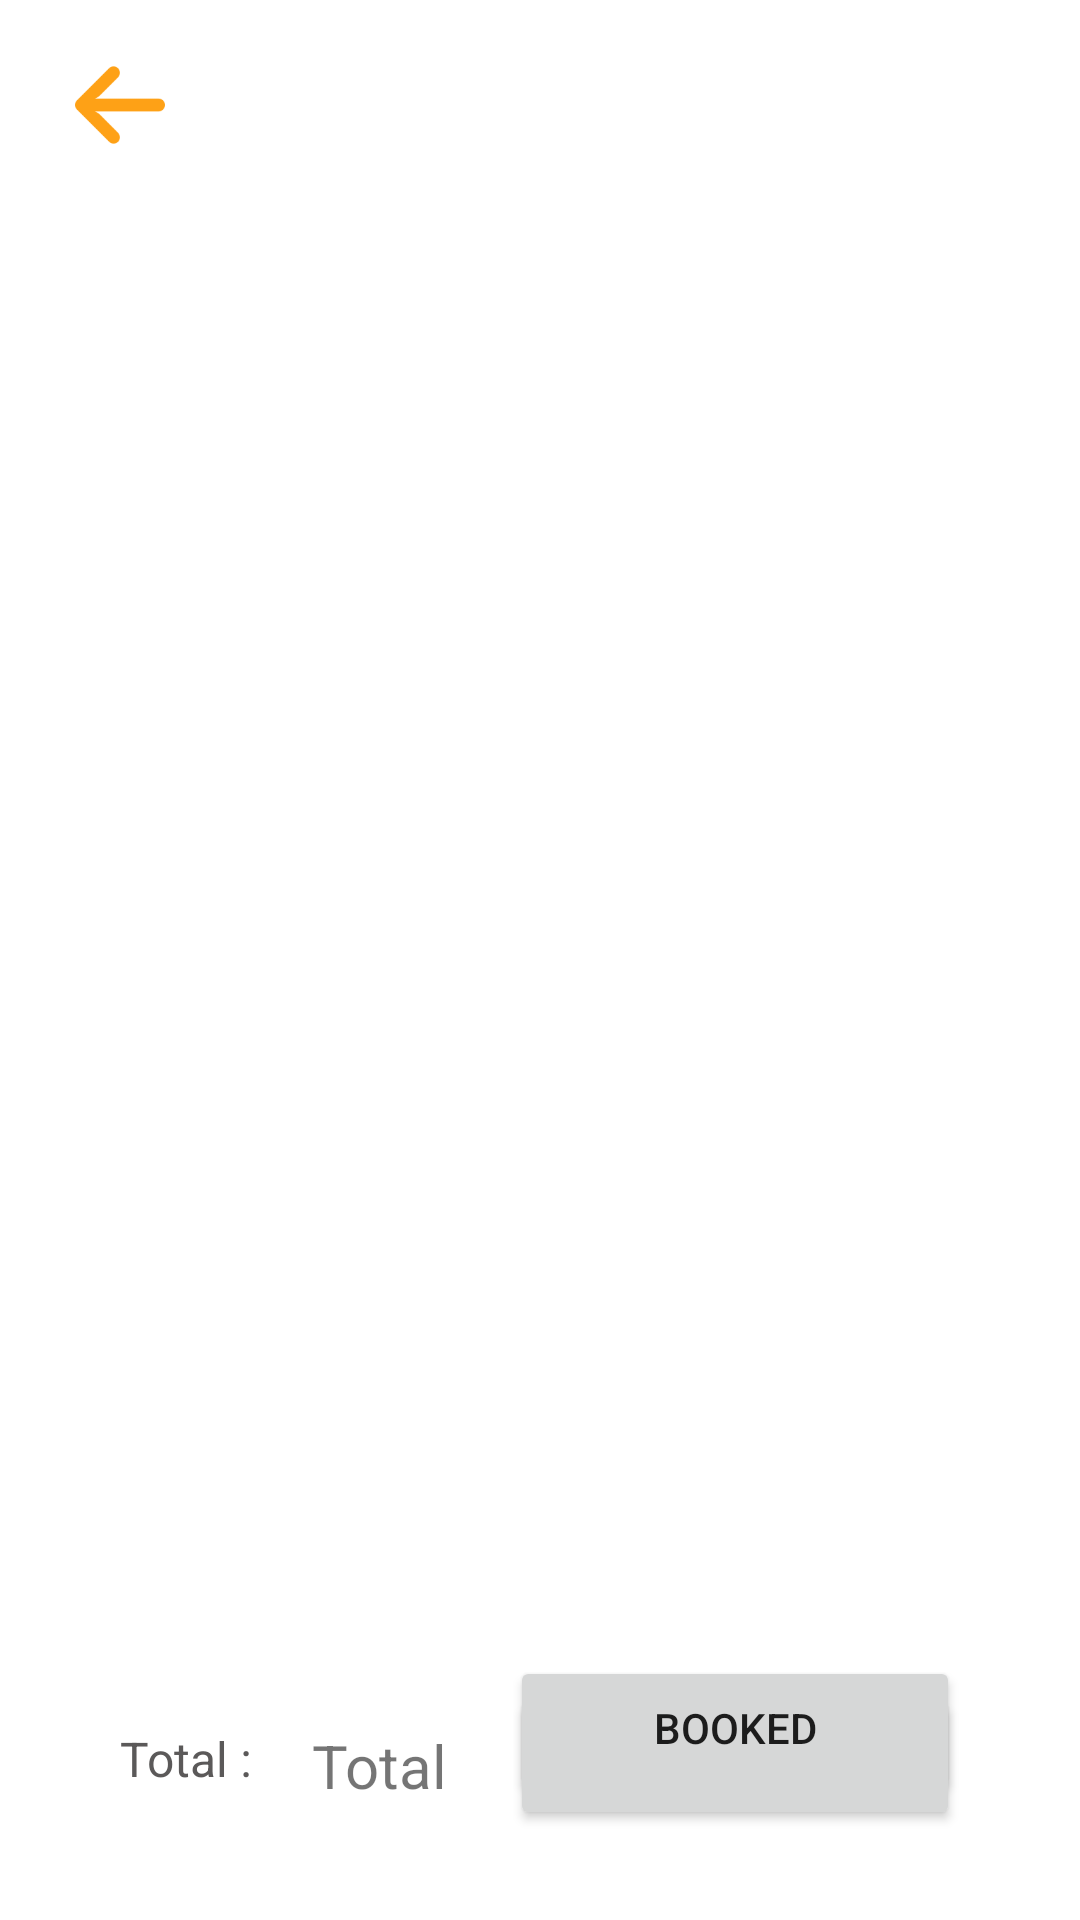

Icons on this 1080x1920 Android screen, each with its box as (x1, y1, x2, y2):
arrow: (75, 66, 165, 144)
